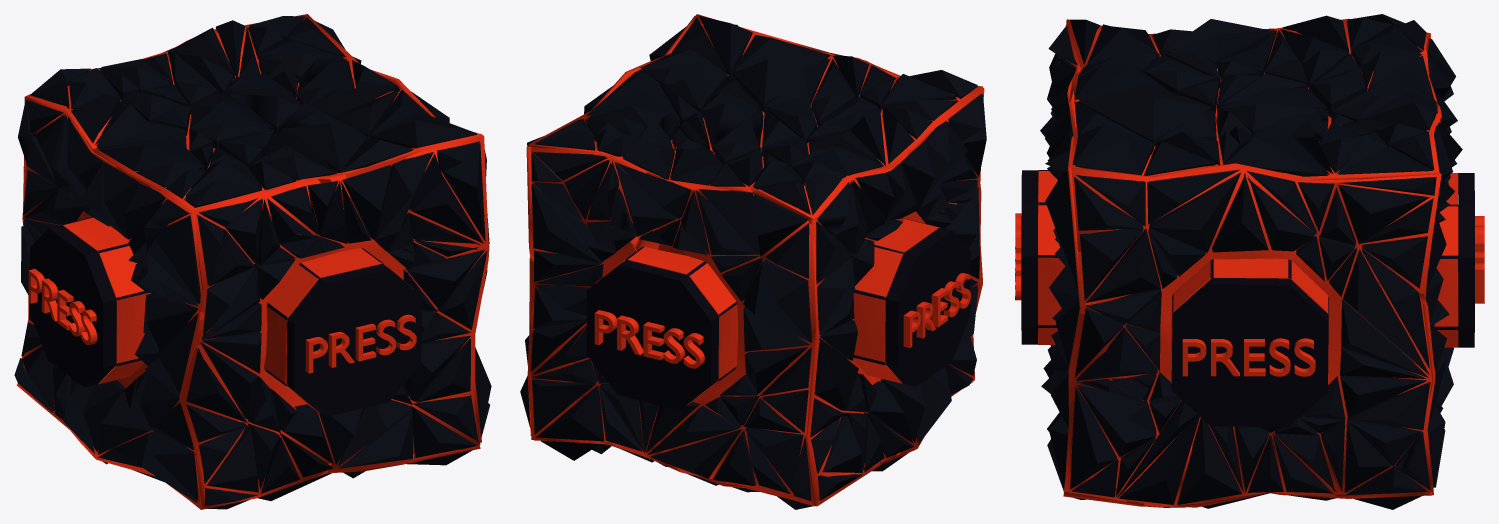
3 renders of one model, left to right at view 1: azimuth 30°, elevation 25°; view 2: azimuth 150°, elevation 25°; view 3: azimuth 270°, elevation 25°, orthographic. The views are drawn at different scales.
Visible parts, largest first — view 1: triangles, plug2, sides, plug1; view 2: triangles, plug4, sides, plug1; view 3: triangles, plug3, sides, plug2, plug4.
Boxes of the visible parts, bbox=[...] form: triangles: bbox=[14, 16, 491, 509]; plug2: bbox=[264, 248, 421, 416]; sides: bbox=[16, 14, 489, 509]; plug1: bbox=[28, 217, 150, 387]; triangles: bbox=[520, 16, 986, 509]; plug4: bbox=[586, 246, 738, 410]; sides: bbox=[526, 14, 984, 506]; plug1: bbox=[852, 219, 970, 386]; triangles: bbox=[1040, 14, 1462, 509]; plug3: bbox=[1170, 258, 1329, 427]; sides: bbox=[1063, 18, 1441, 507]; plug2: bbox=[1015, 170, 1065, 344]; plug4: bbox=[1433, 173, 1484, 347].
Bounding box in the file's own units: 3.03 × 2.62 × 3.
